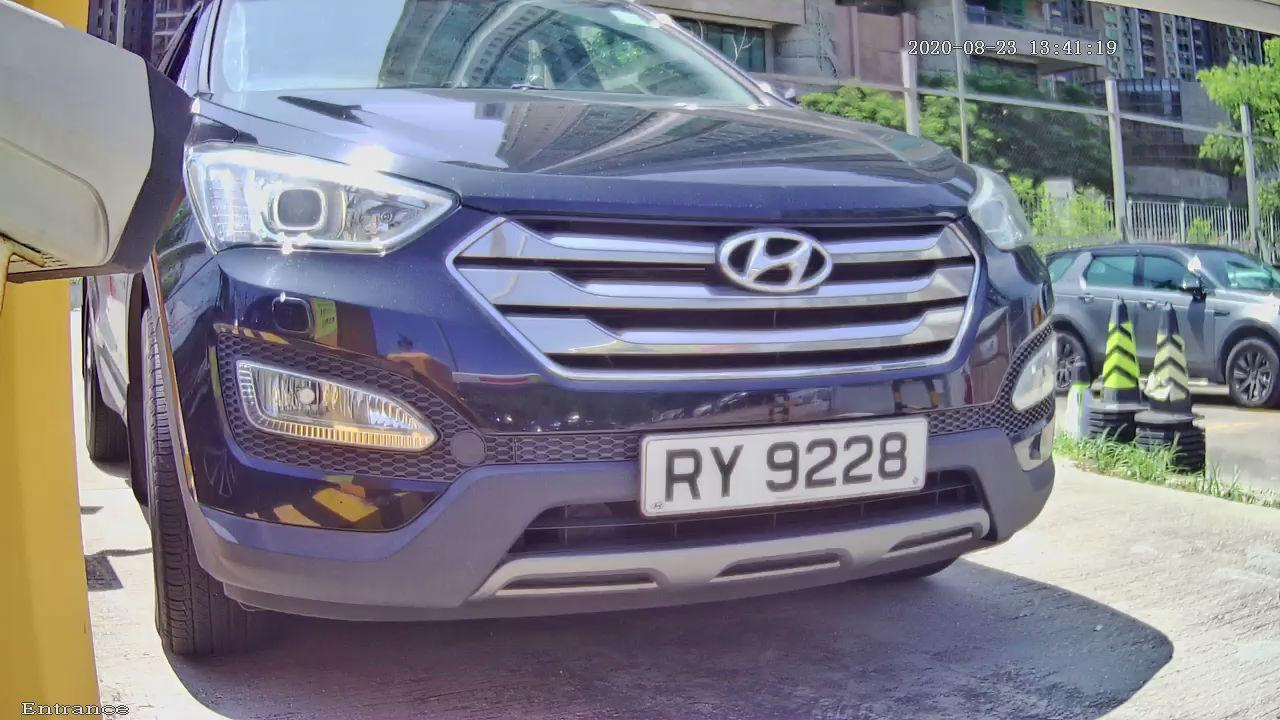Car: (18, 4, 1138, 695)
License Plate: (593, 355, 1015, 565)
